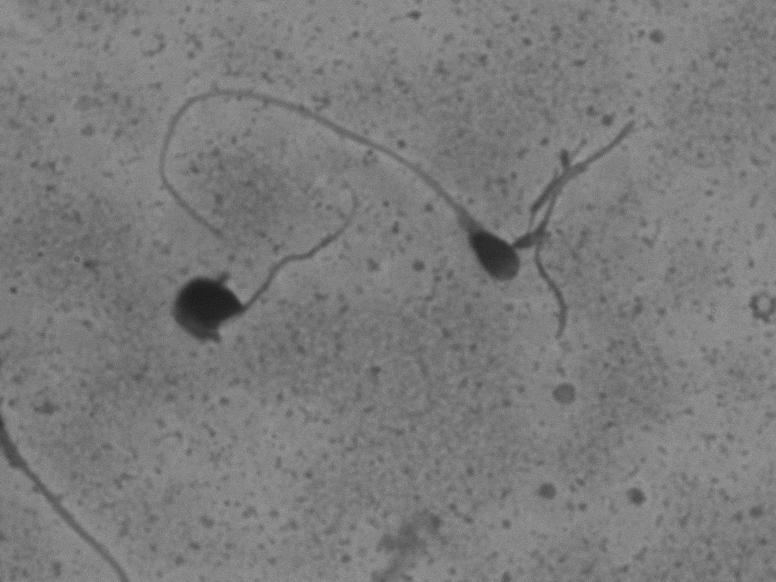Abnormal: (130, 53, 530, 304), (135, 229, 341, 385)
